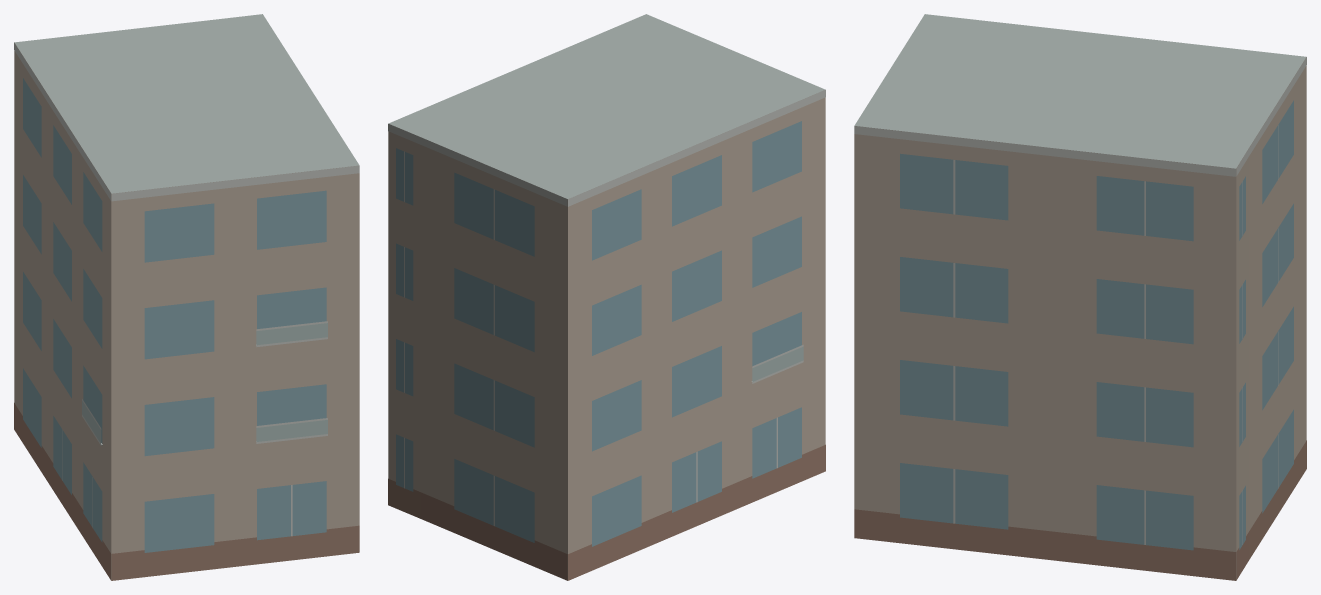
The model's file is survey-upis-32803014.glb.
3 renders of one model, left to right at view 1: azimuth 30°, elevation 25°; view 2: azimuth 150°, elevation 25°; view 3: azimuth 270°, elevation 25°, orthographic. The views are drawn at different scales.
Visible parts, largest first — view 1: survey-upis-32803014.tmp; view 2: survey-upis-32803014.tmp; view 3: survey-upis-32803014.tmp.
Boxes of the visible parts, <box> form: survey-upis-32803014.tmp: <box>14,14,359,580</box>; survey-upis-32803014.tmp: <box>388,14,825,580</box>; survey-upis-32803014.tmp: <box>854,14,1306,580</box>.
Size of the model in its own units: 9.82 by 12.2 by 12.15.
